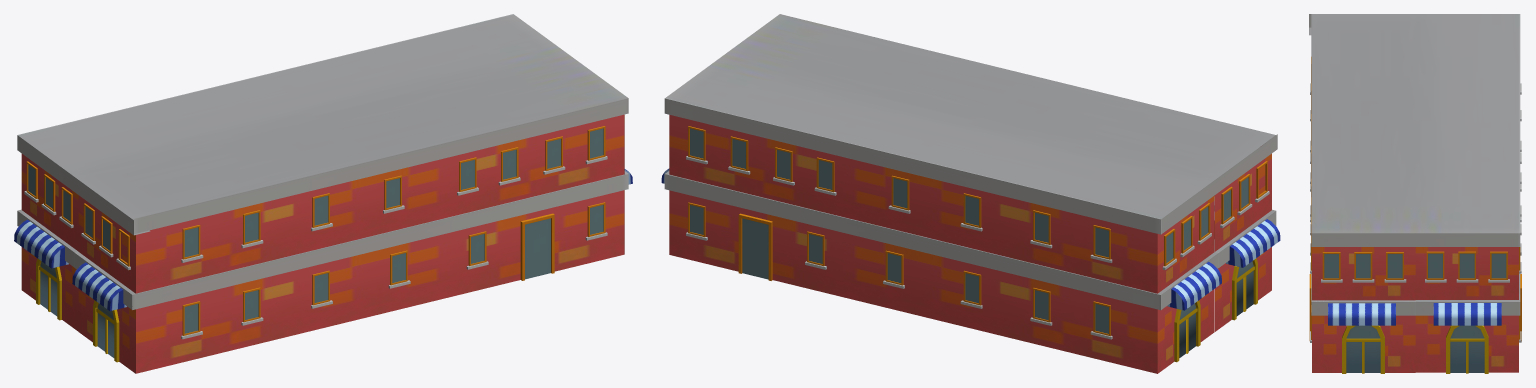
Rendered from Nha_do_dai.fbx.
The picture shows the model from 3 angles, left to right: view 1: azimuth 30°, elevation 25°; view 2: azimuth 150°, elevation 25°; view 3: azimuth 270°, elevation 25°; orthographic projection. The views are drawn at different scales.
Parts seen in each view (by area): view 1: Nha_do_dai; view 2: Nha_do_dai; view 3: Nha_do_dai.
Boxes of the visible parts, x1=… form: Nha_do_dai: x1=14, y1=14, x2=632, y2=373; Nha_do_dai: x1=661, y1=14, x2=1280, y2=373; Nha_do_dai: x1=1309, y1=14, x2=1521, y2=373.
Size of the model in its own units: 2330 by 663 by 907.
